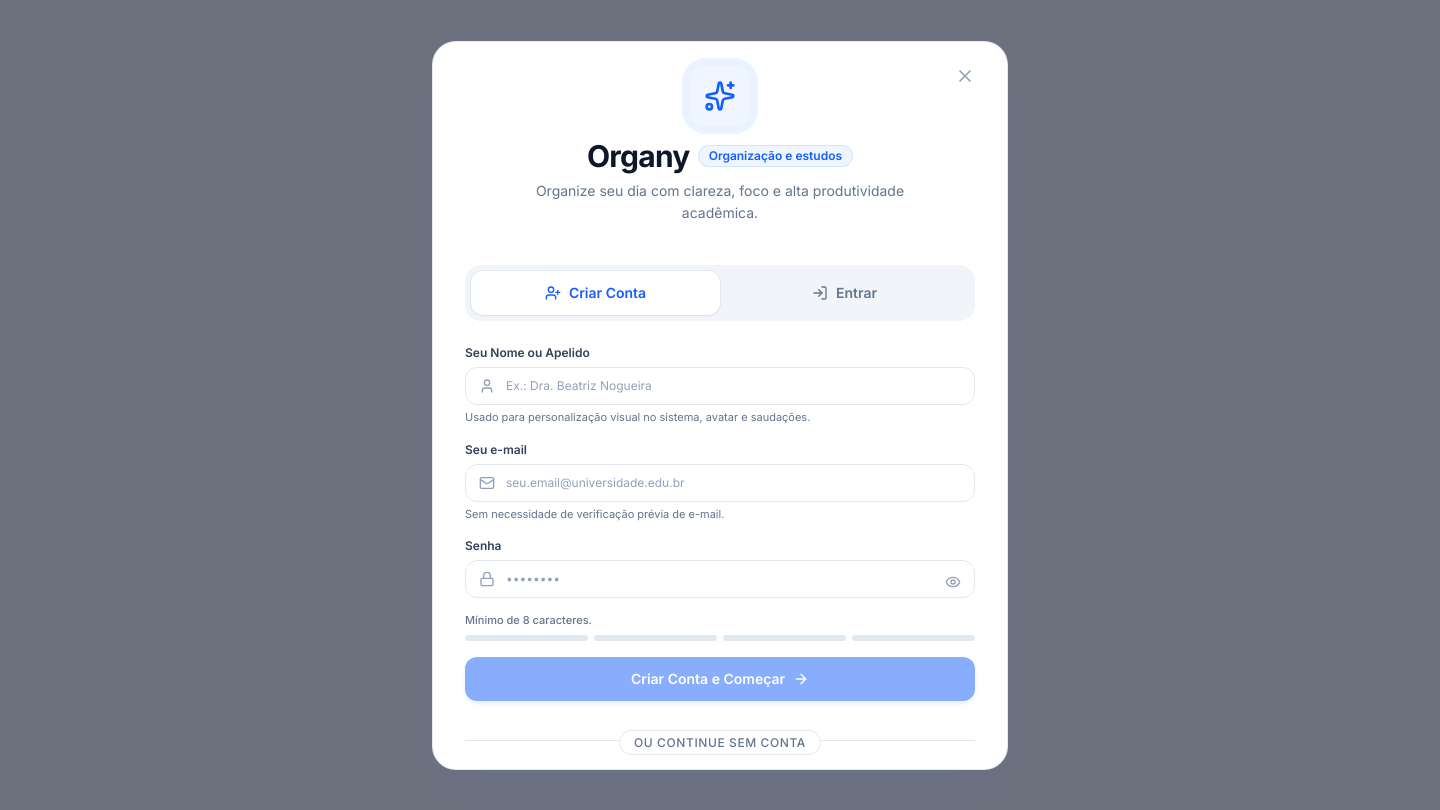
Test: AuthModal Component › valida senha em tempo real no cadastro exigindo no mínimo 8 caracteres
Expected: the text "Mínimo de 8 caracteres." is shown, [465,612,592,628]
Expected: the button "Criar Conta e Começar" is disabled, [465,656,975,700]
Note: Digita nome e email
In the field labelled "Seu Nome ou Apelido": [720, 386] box [465,367,975,405], type "Lucas Mendes"
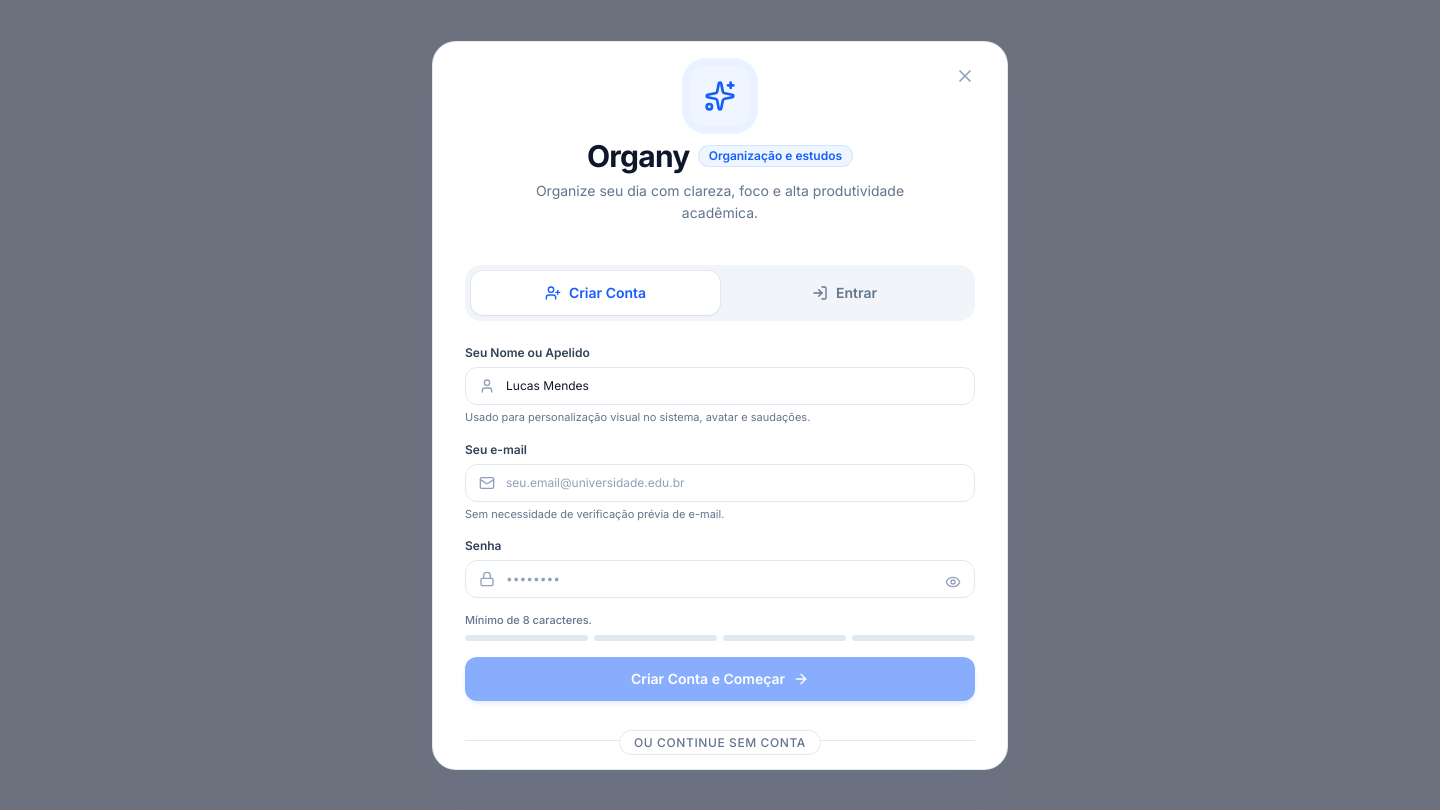
In the field labelled "Seu e-mail": [720, 482] box [465,464,975,502], type "lucas@example.com"
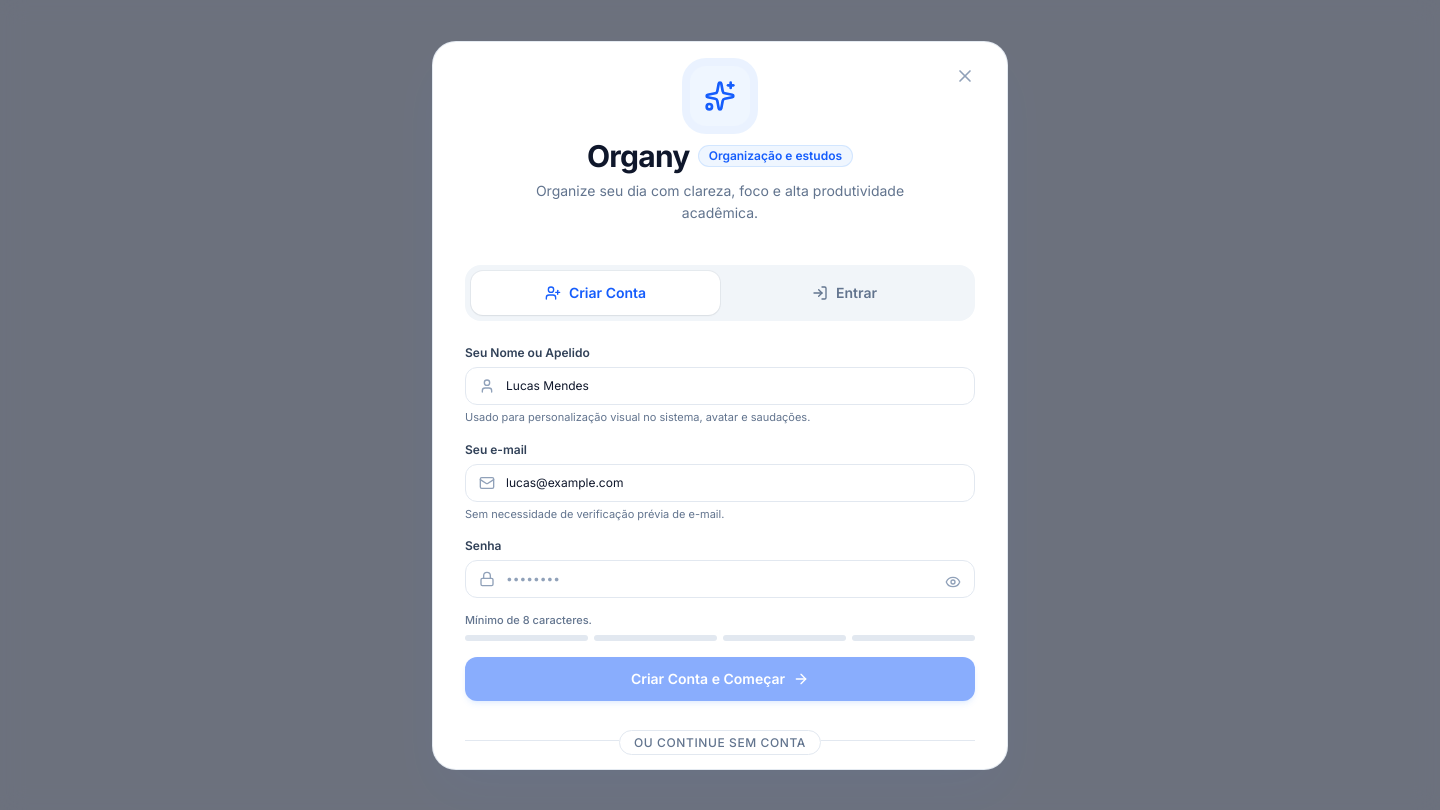
Expected: the button "Criar Conta e Começar" is disabled, [465,656,975,700]
Note: Digita senha curta (5 caracteres)
In the password field labelled "Senha": [720, 579] box [465,560,975,598], type "12345"
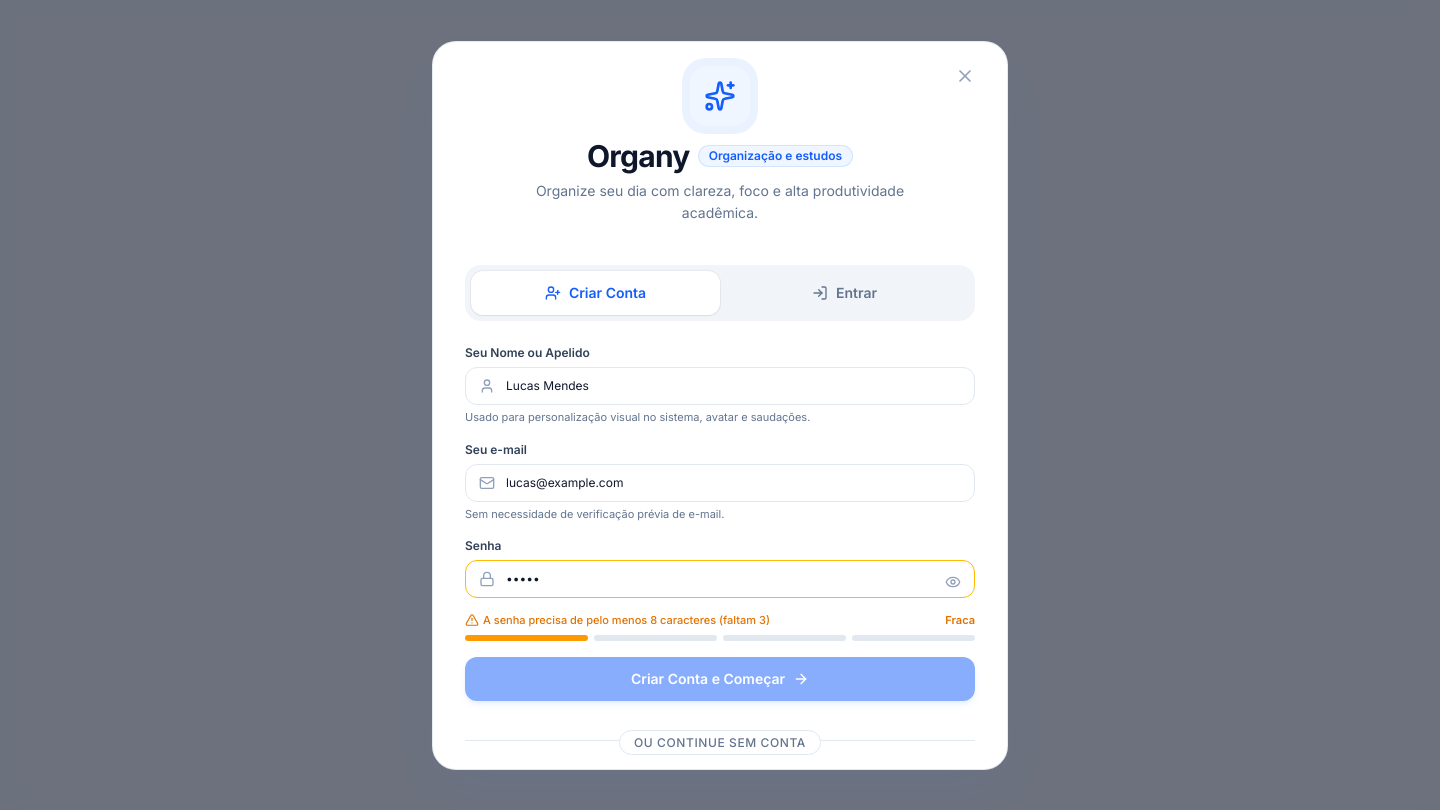
Expected: the button "Criar Conta e Começar" is disabled, [465,656,975,700]
Result: the text "A senha precisa de pelo menos 8 caracteres (faltam 3)" is shown at [465,612,770,628]
Note: Digita senha válida (8 caracteres)
In the password field labelled "Senha": [720, 579] box [465,560,975,598], type "12345678"
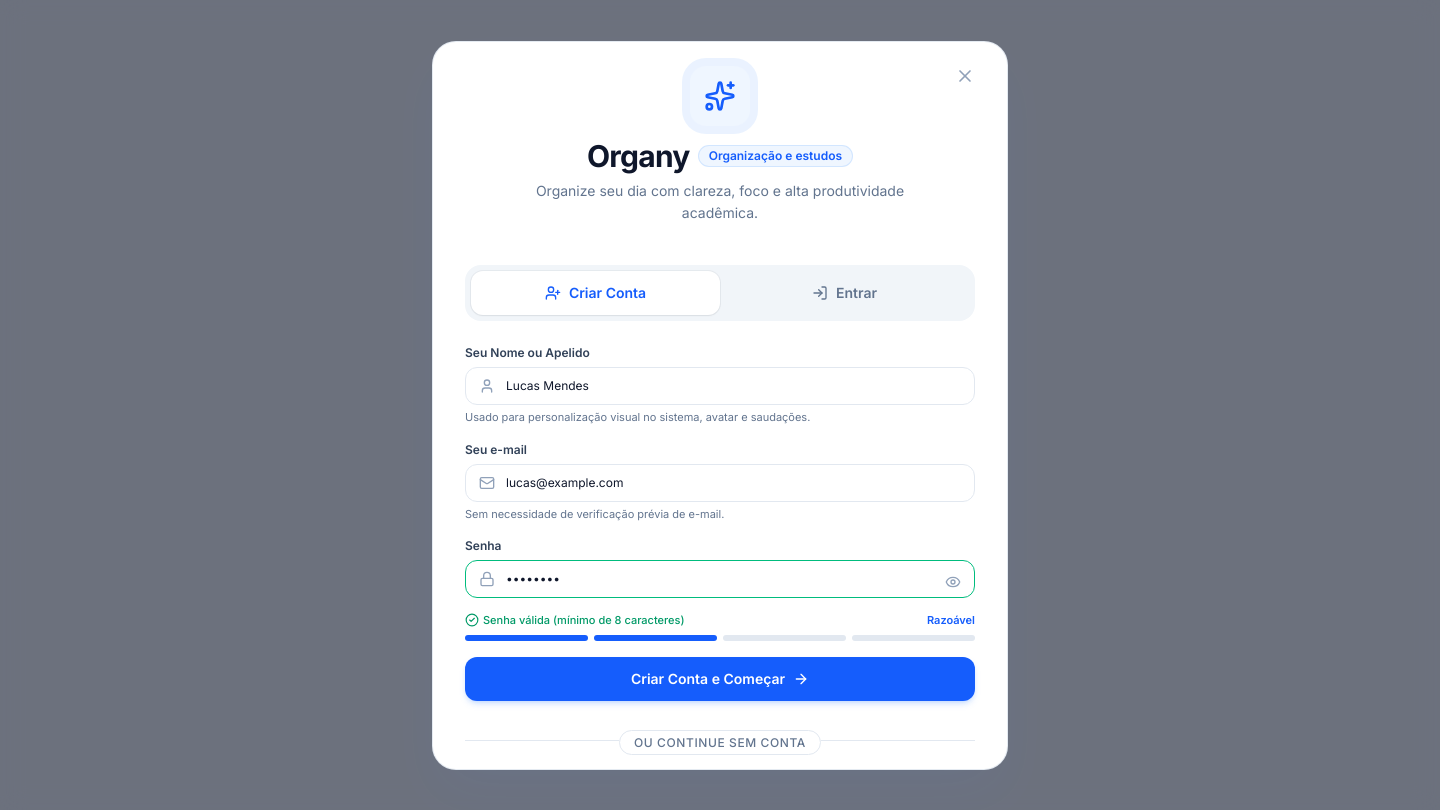
Result: the text "Senha válida (mínimo de 8 caracteres)" is shown at [465,612,684,628]
Result: the button "Criar Conta e Começar" is enabled at [465,656,975,700]
